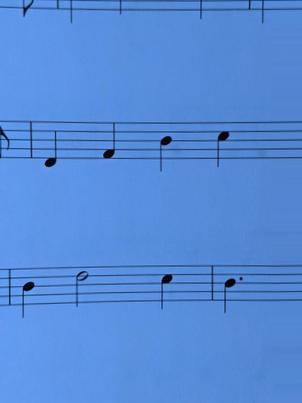B: (14, 263, 41, 322), (154, 121, 175, 174), (220, 261, 238, 318)
D: (39, 118, 62, 174)
F: (97, 118, 119, 172)
HC: (211, 118, 232, 174), (157, 264, 176, 315)
